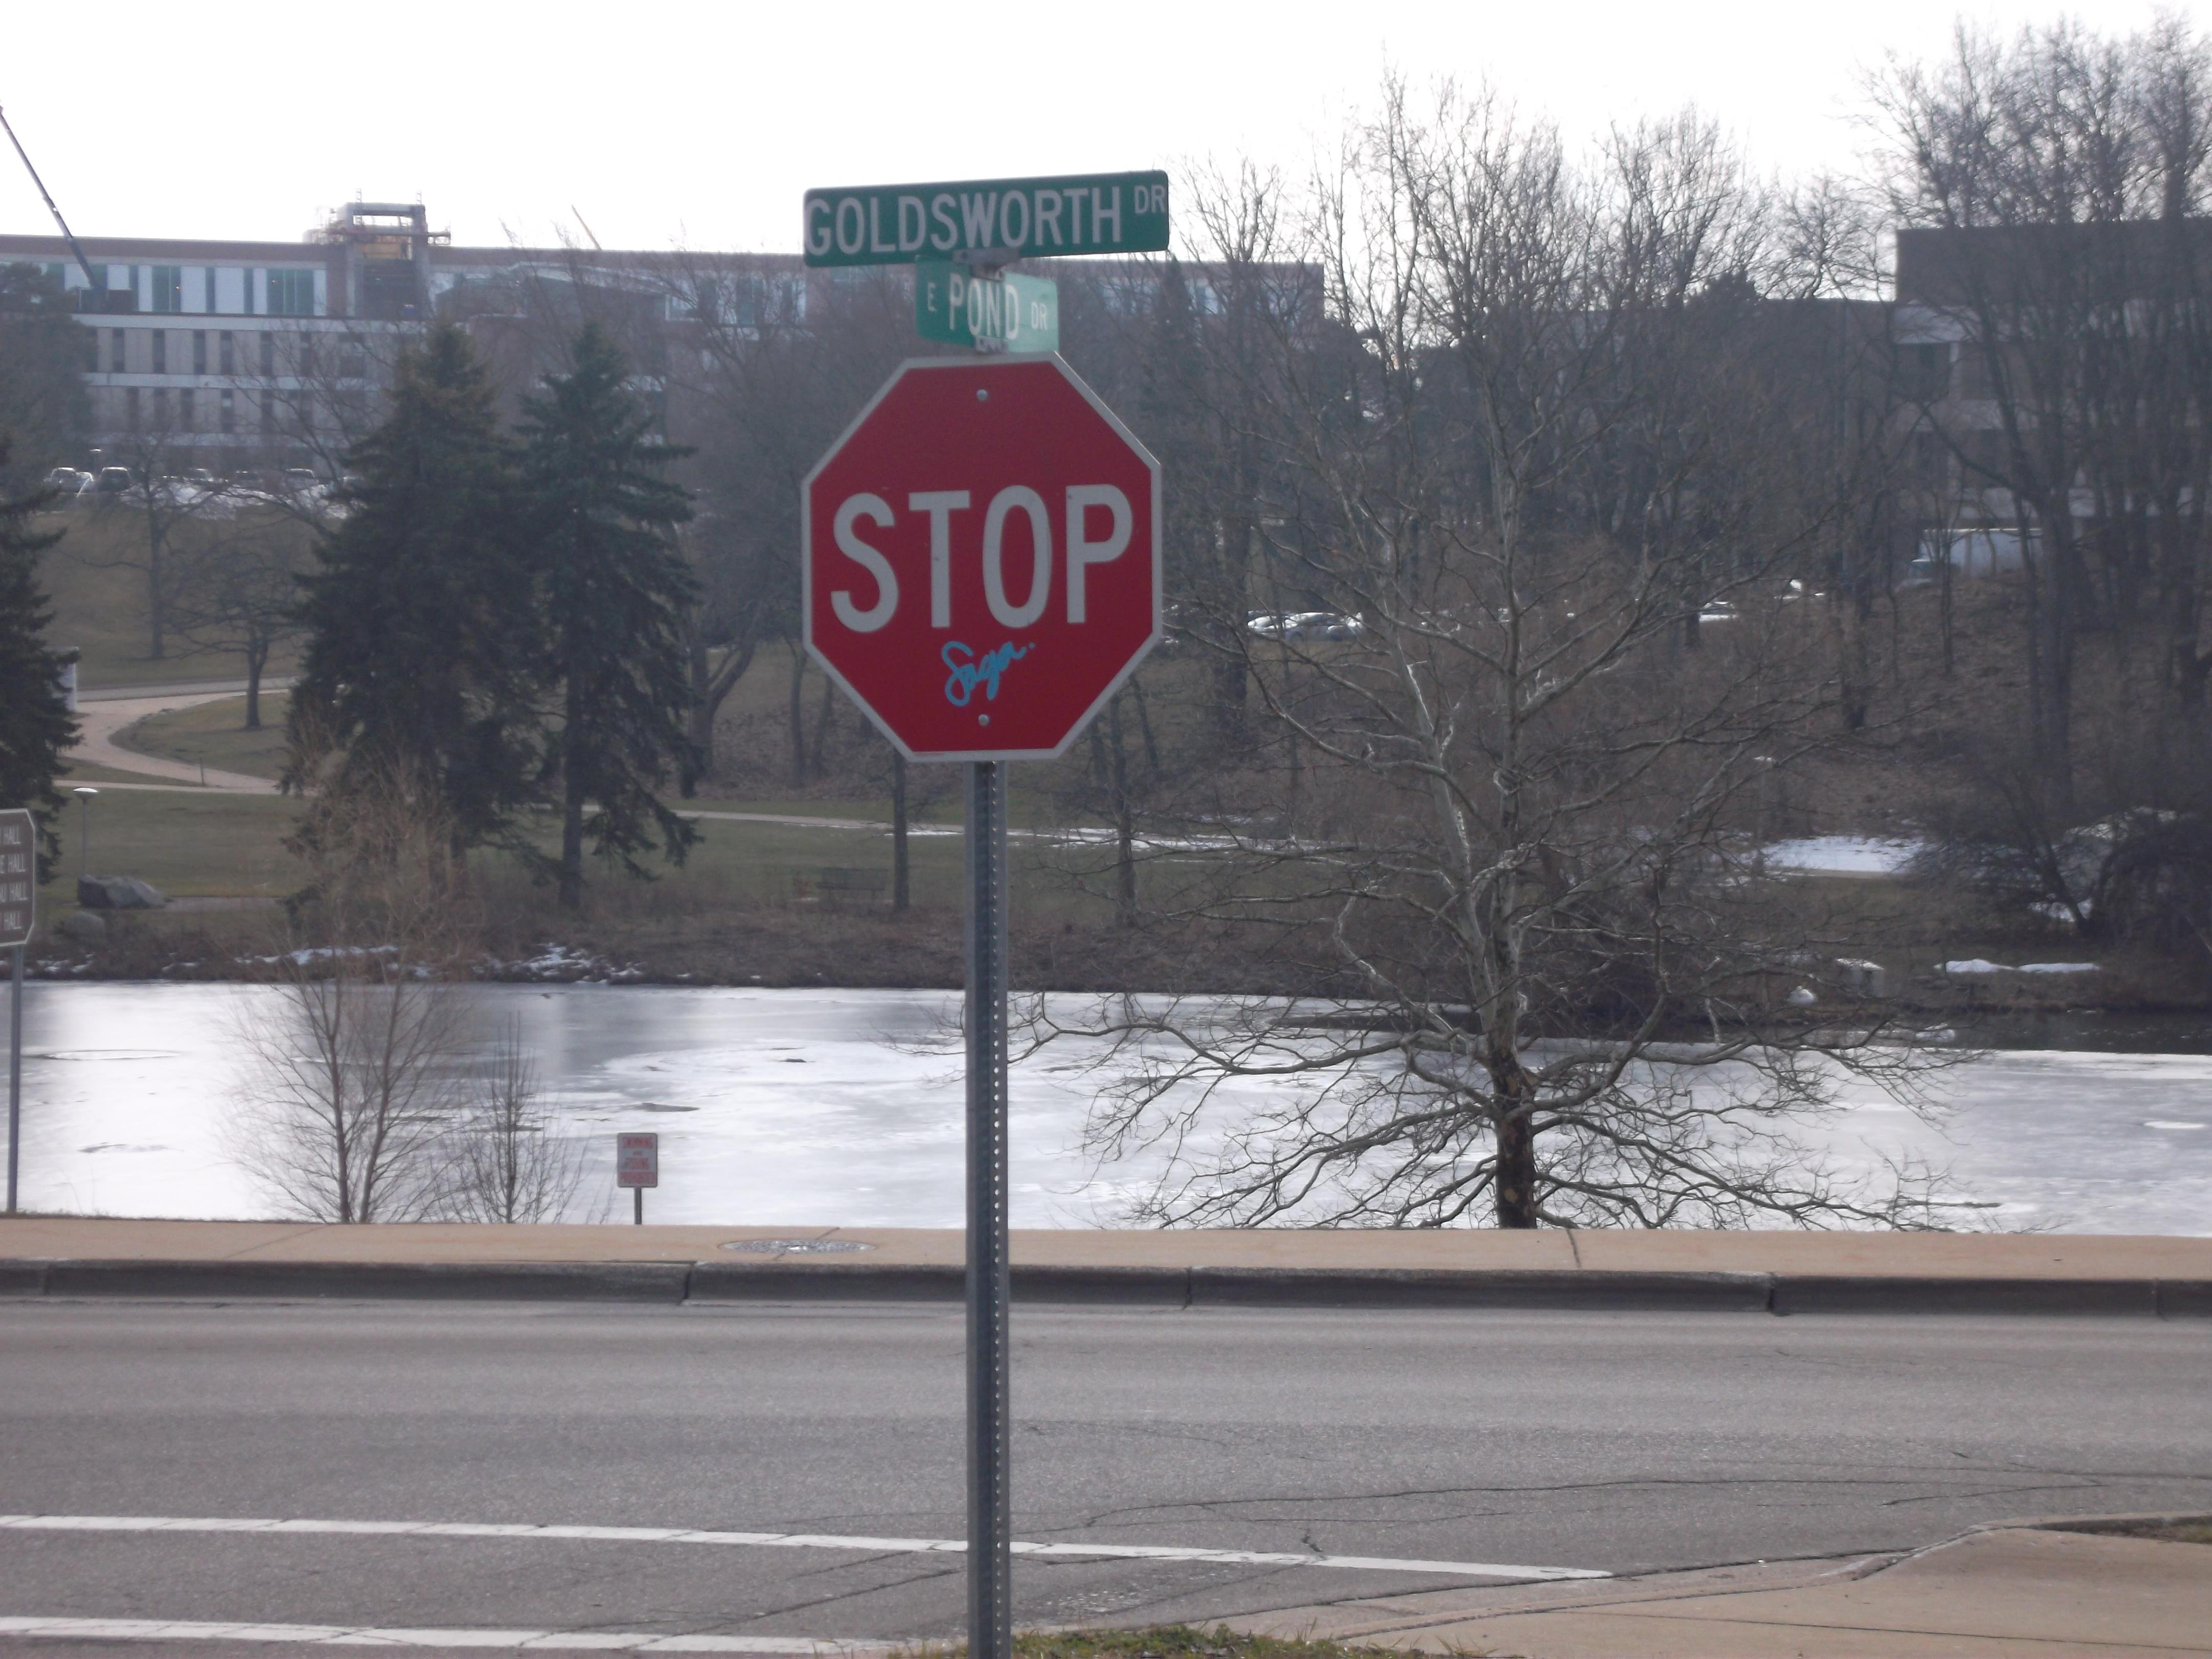stop: (789, 349, 1170, 767)
